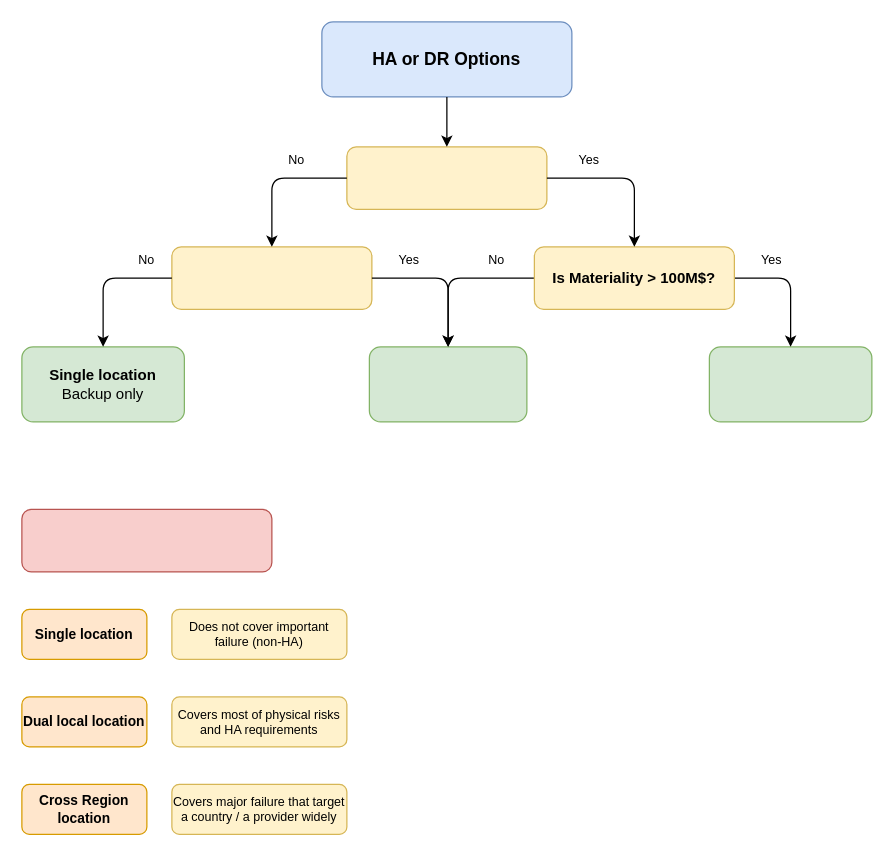
The diagram is 894 pixels wide and 856 high, and some of its shapes have lost their labels. Here are the shapes that lost their labels. From the top down, the centre of each, then its label:
point 446,177: Is Vital?
point 271,277: Business continuity required?
point 447,384: Dual local location Suits HA and local DR
point 790,384: Cross Region location Suits long distance DR
point 146,540: Risk Coverage Scenarios
